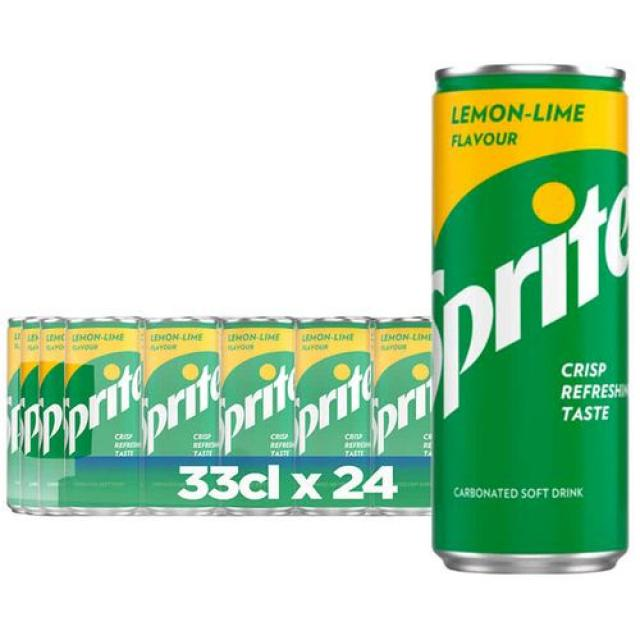sprite: (419, 59, 629, 580), (61, 327, 145, 509), (145, 320, 226, 486), (292, 327, 372, 481), (222, 324, 296, 477), (366, 320, 437, 476)
